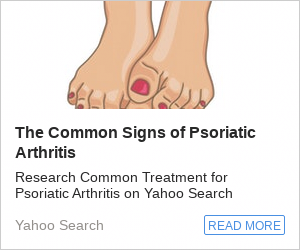fake_button: (193, 210, 288, 242)
